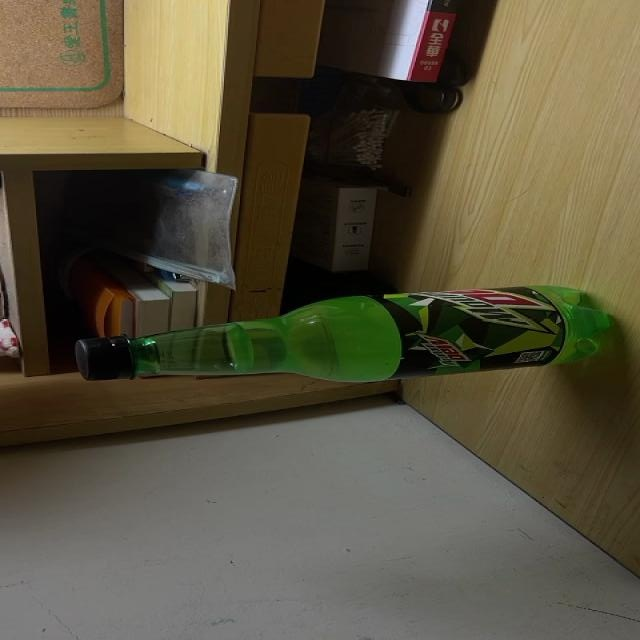Mountain-Dew: (74, 283, 614, 385)
